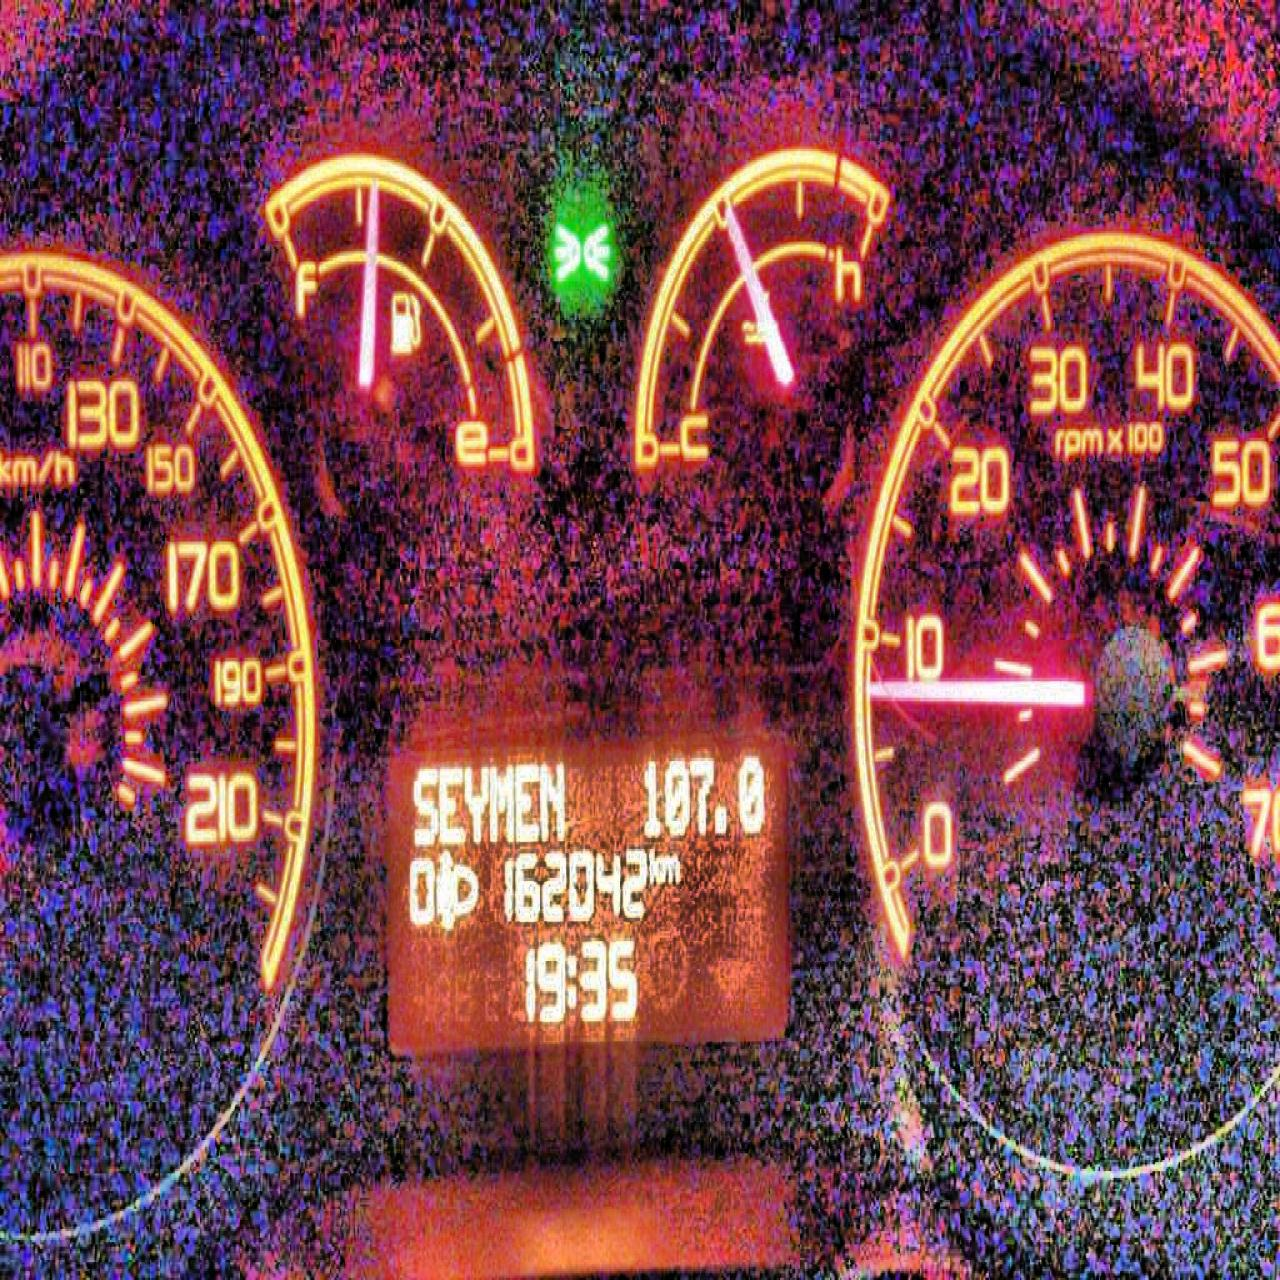-: (712, 802, 729, 836)
0: (661, 757, 692, 836), (736, 751, 765, 831), (406, 853, 435, 928), (568, 846, 593, 920)
1: (641, 756, 661, 836), (524, 947, 535, 1022), (502, 853, 513, 920)
2: (540, 849, 567, 922), (621, 844, 647, 918)
3: (578, 933, 606, 1020)
4: (594, 846, 621, 915)
5: (606, 931, 638, 1020)
6: (515, 849, 540, 922)
7: (688, 756, 714, 837)
9: (535, 938, 565, 1022)
X: (463, 762, 489, 846), (488, 762, 515, 842), (515, 760, 540, 842), (440, 764, 465, 846), (411, 764, 437, 846), (540, 760, 565, 842), (564, 951, 578, 1012), (662, 853, 681, 887), (647, 846, 662, 883)
odometer: (380, 731, 791, 1060)
